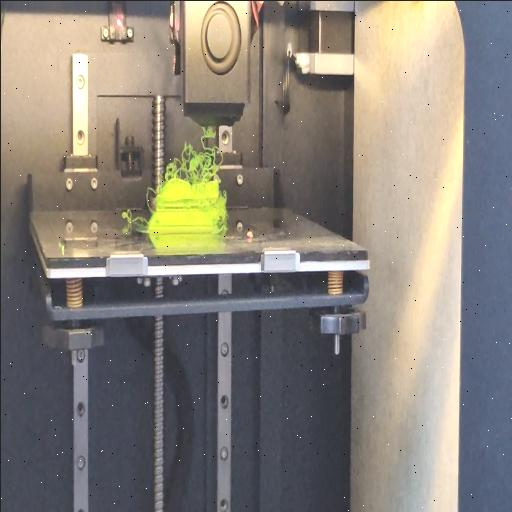spaghetti: (162, 126, 222, 180), (121, 209, 149, 229), (146, 184, 156, 212), (215, 224, 226, 234)
